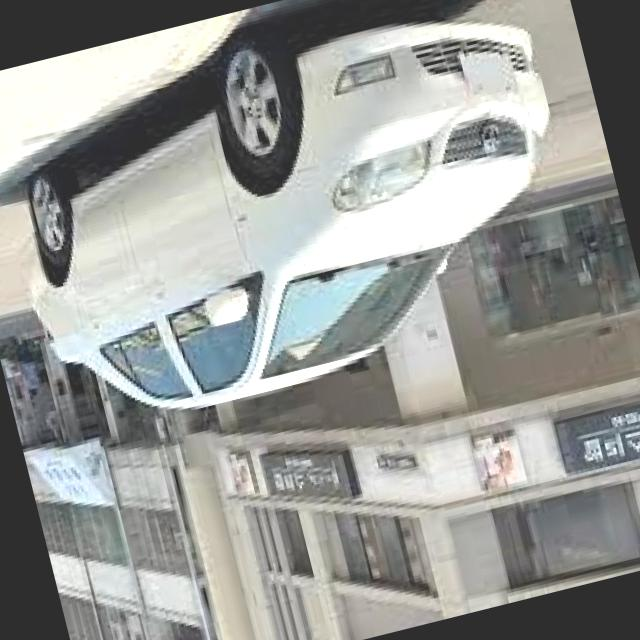ToyotaVios: (0, 0, 601, 446)
